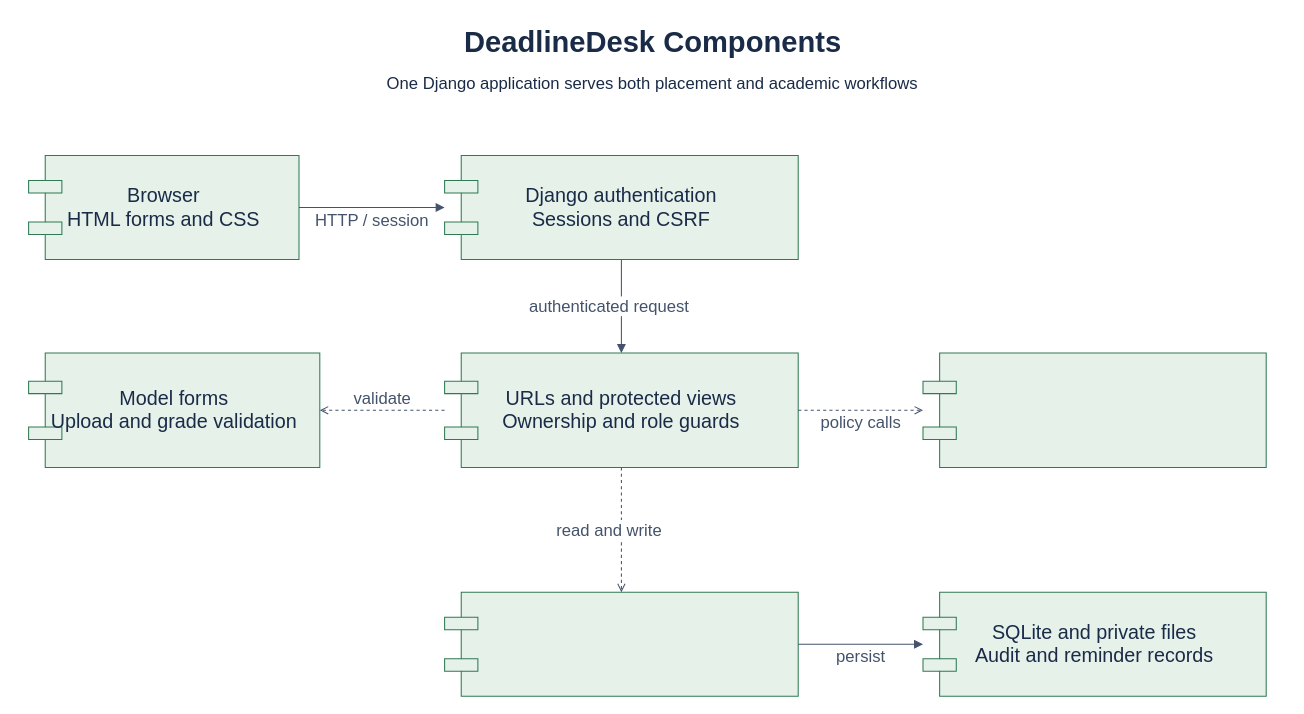
This 1304x714 diagram has some shape labels left out. The box of each missing label's shape, as (x1, y1, x2, y2) in pixels:
Application services Late policy and token overlap: (922, 352, 1266, 467)
Django models and ORM Constraints and transactions: (444, 591, 798, 696)
